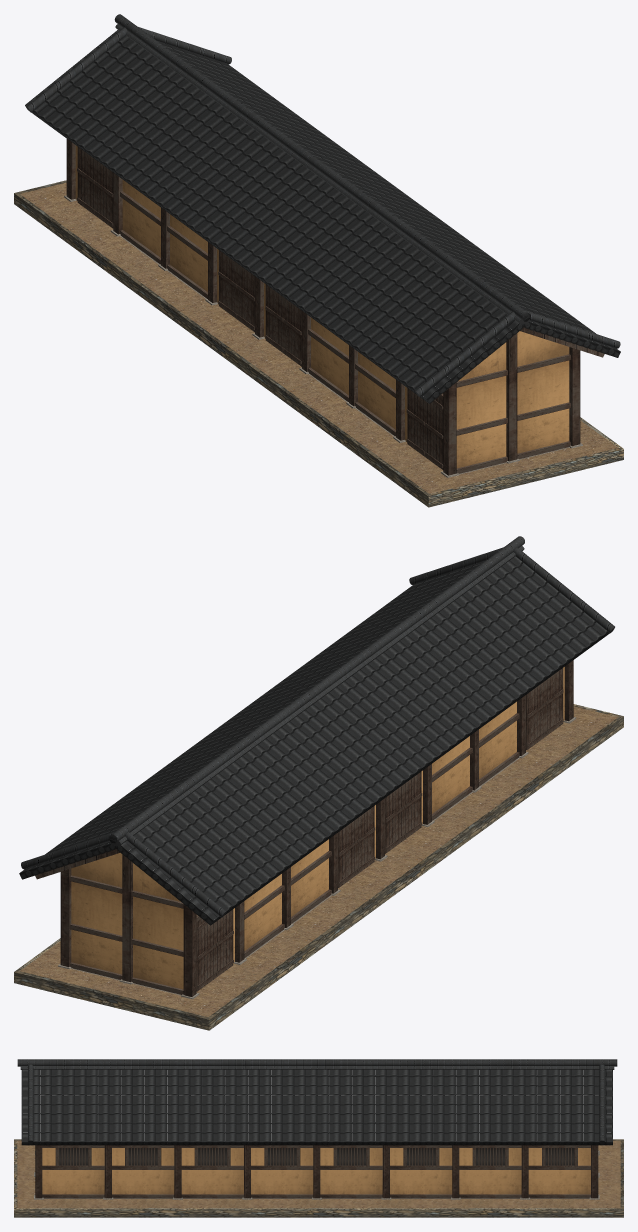
File: KoreanMansion_House_2.FBX
3 renders of one model, top to bottom at view 1: azimuth 30°, elevation 25°; view 2: azimuth 150°, elevation 25°; view 3: azimuth 270°, elevation 25°, orthographic. The views are drawn at different scales.
Visible parts, largest first — view 1: KoreanMansion_House_2; view 2: KoreanMansion_House_2; view 3: KoreanMansion_House_2.
Boxes of the visible parts, x1,y1,x2,y2 form: KoreanMansion_House_2: (14, 14, 623, 507); KoreanMansion_House_2: (14, 536, 623, 1030); KoreanMansion_House_2: (14, 1059, 623, 1217).
Size of the model in its own units: 530 by 418 by 1868.
